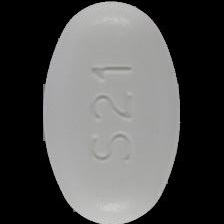68788-8949: (0, 0, 224, 224)
